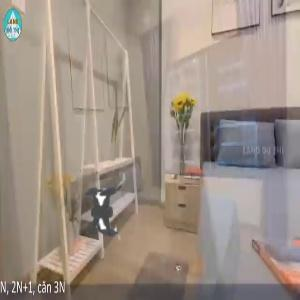drone: (39, 153, 165, 279)
